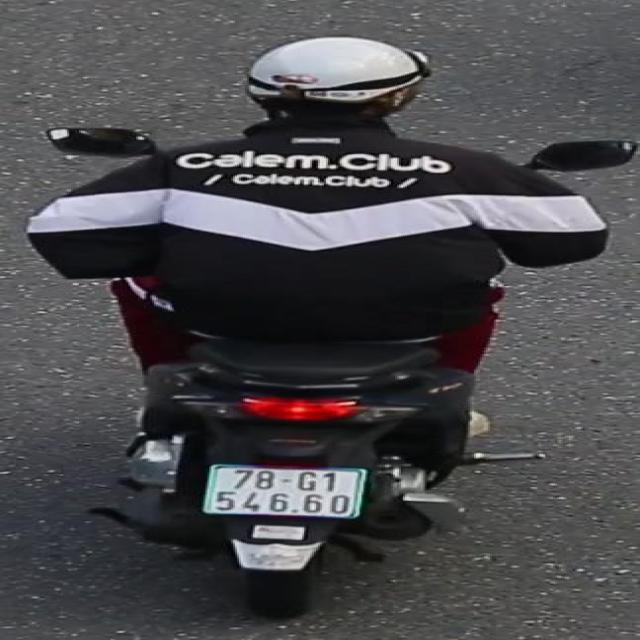LP: (185, 452, 374, 529)
helmet: (233, 32, 439, 124)
